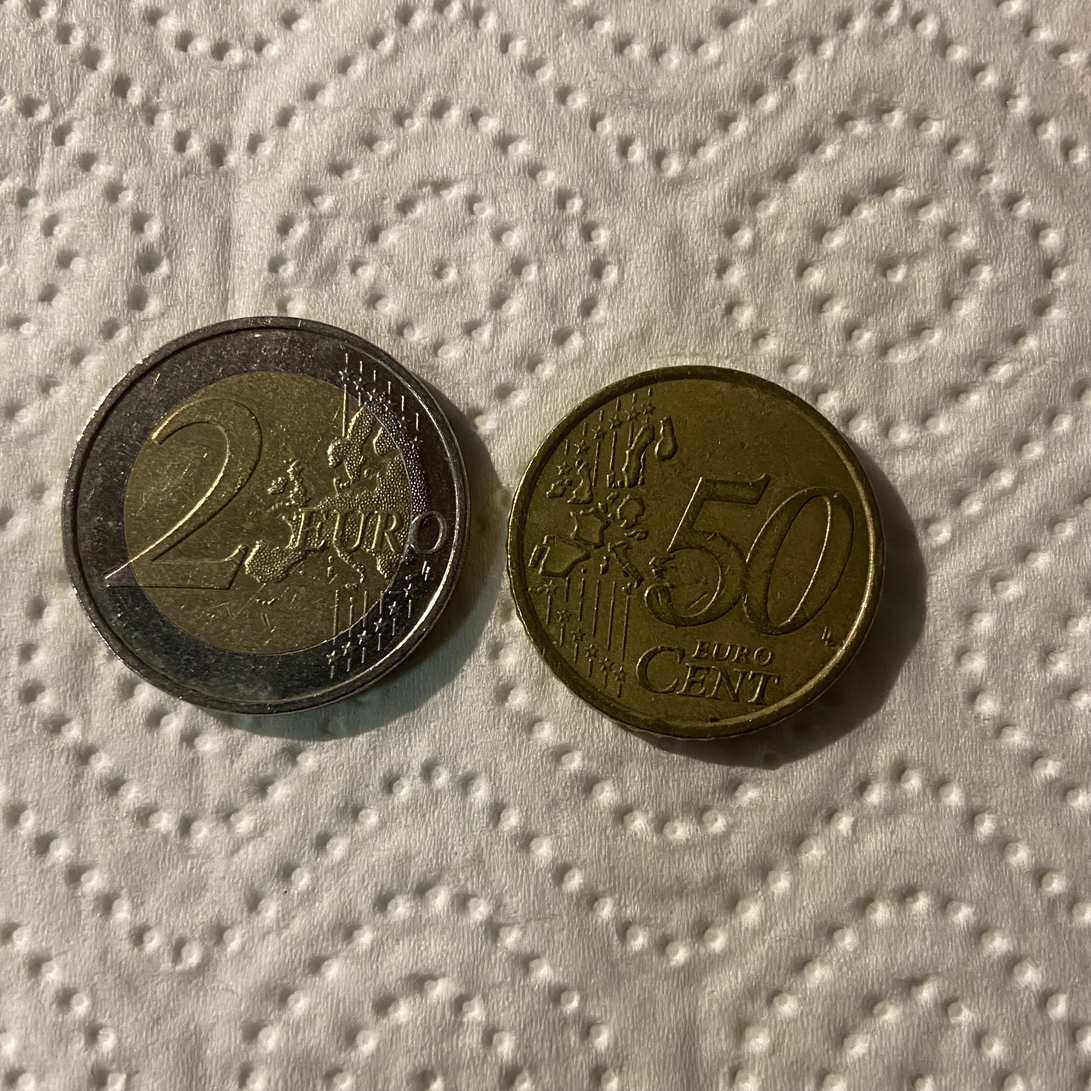2 euro: (61, 320, 476, 723)
50 cent: (495, 359, 899, 746)
